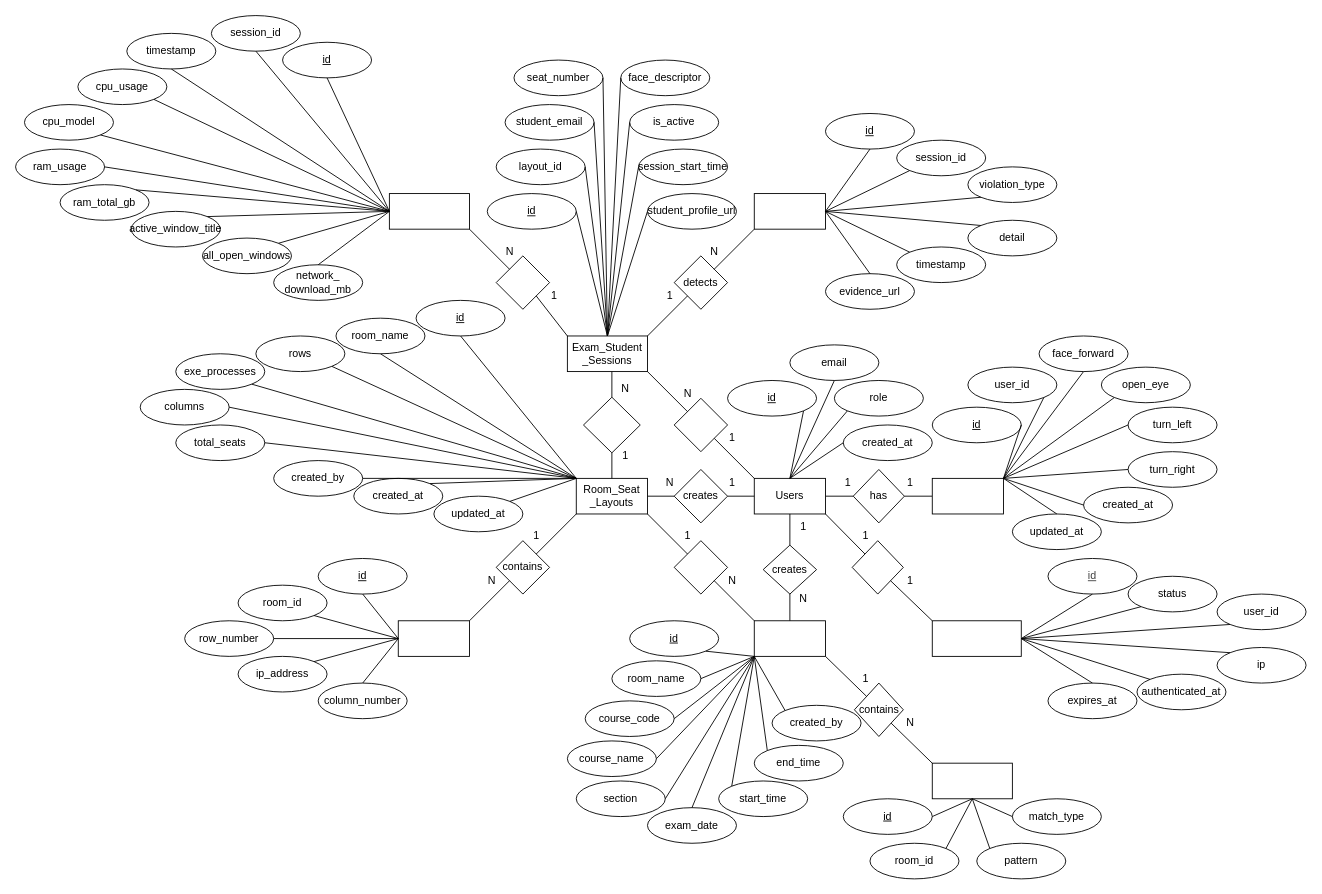
The diagram is 1322 pixels wide and 894 high, and some of its shapes have lost their labels. The shapes that lost their labels are listed below. From the top down, each one's centre as x and y in pixels, then its label:
At point 428,211: "Resource_Logs".
At point 789,211: "Violation_Logs".
At point 522,282: "generates".
At point 611,424: "supports".
At point 700,424: "takes exam".
At point 967,495: "User_Photos".
At point 700,567: "used".
At point 877,567: "performs".
At point 433,638: "Room_Seat _Ip_Mappings".
At point 789,638: "Exam_Rooms".
At point 976,638: "Qr_Authentication".
At point 971,780: "Room_Blocked _Resources".
